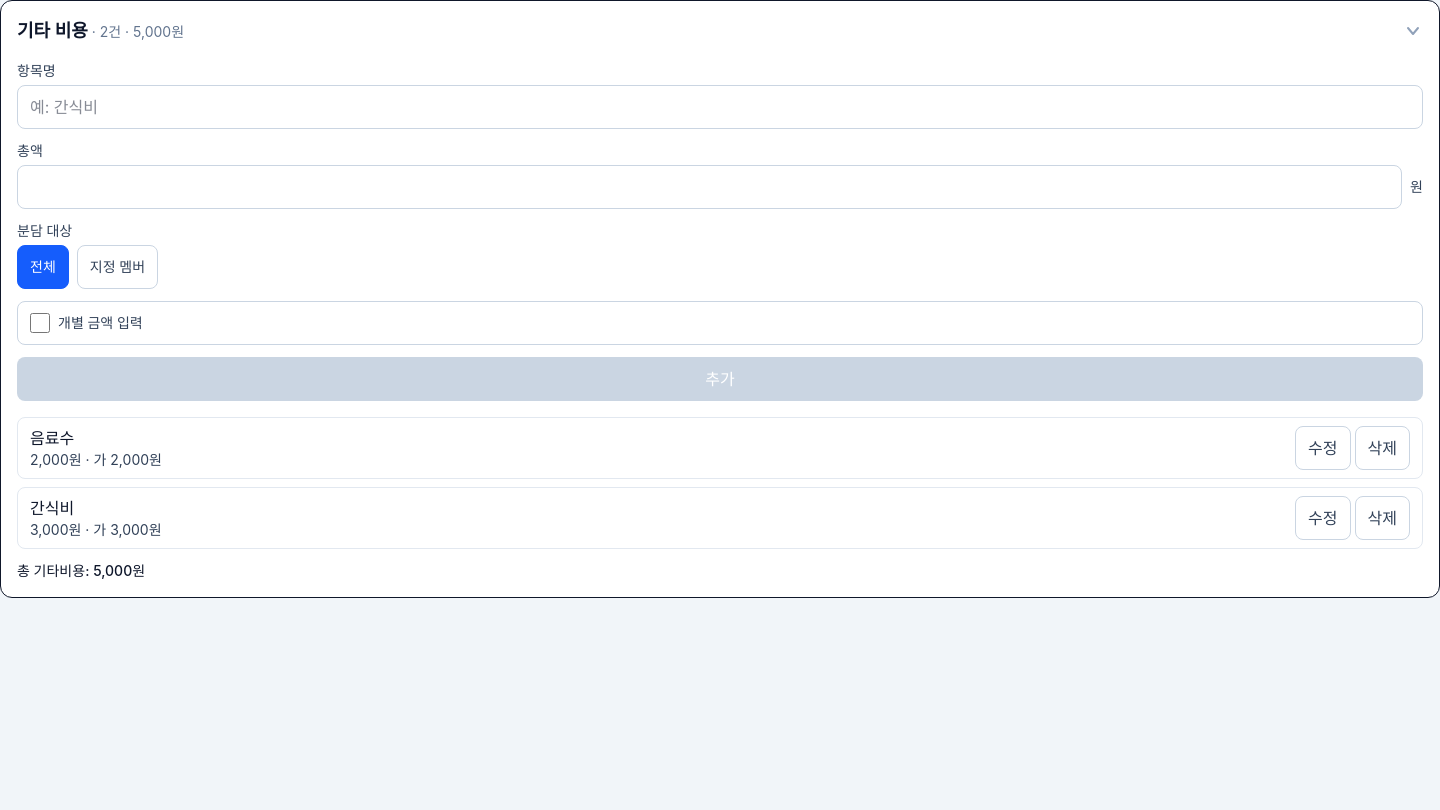
Scenario: ExtraCosts › 추가한 항목 수정 › 한 번에 한 항목만 편집칸이 열린다
What coordinates should you click on to do the following:
click the button with aria-label "음료수 금액 수정"
I would click on:
 (1323, 448)
Its box is [1295, 426, 1351, 470].
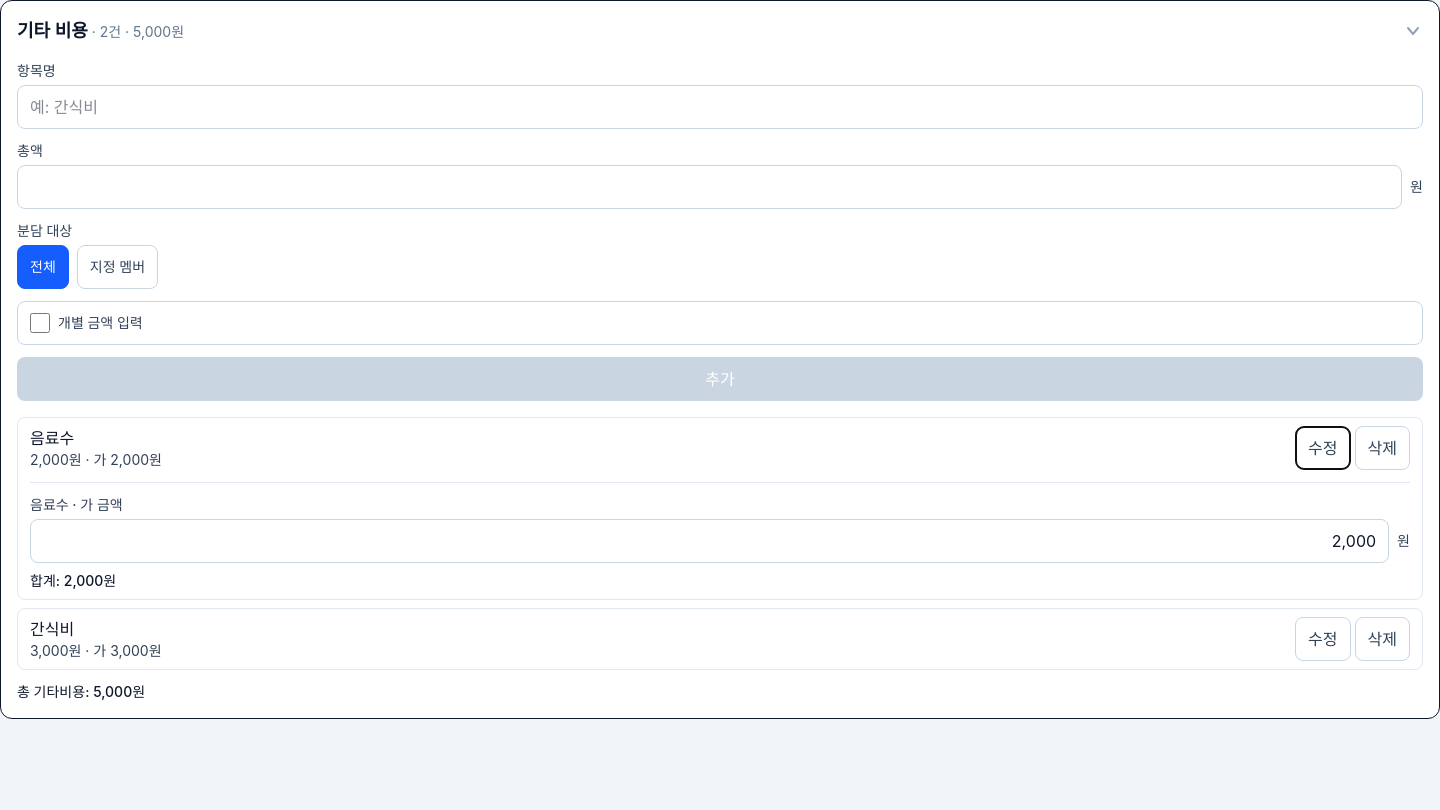
What coordinates should you click on to do the following:
click the button with aria-label "간식비 금액 수정"
I would click on:
 (1323, 639)
Its box is [1295, 617, 1351, 661].
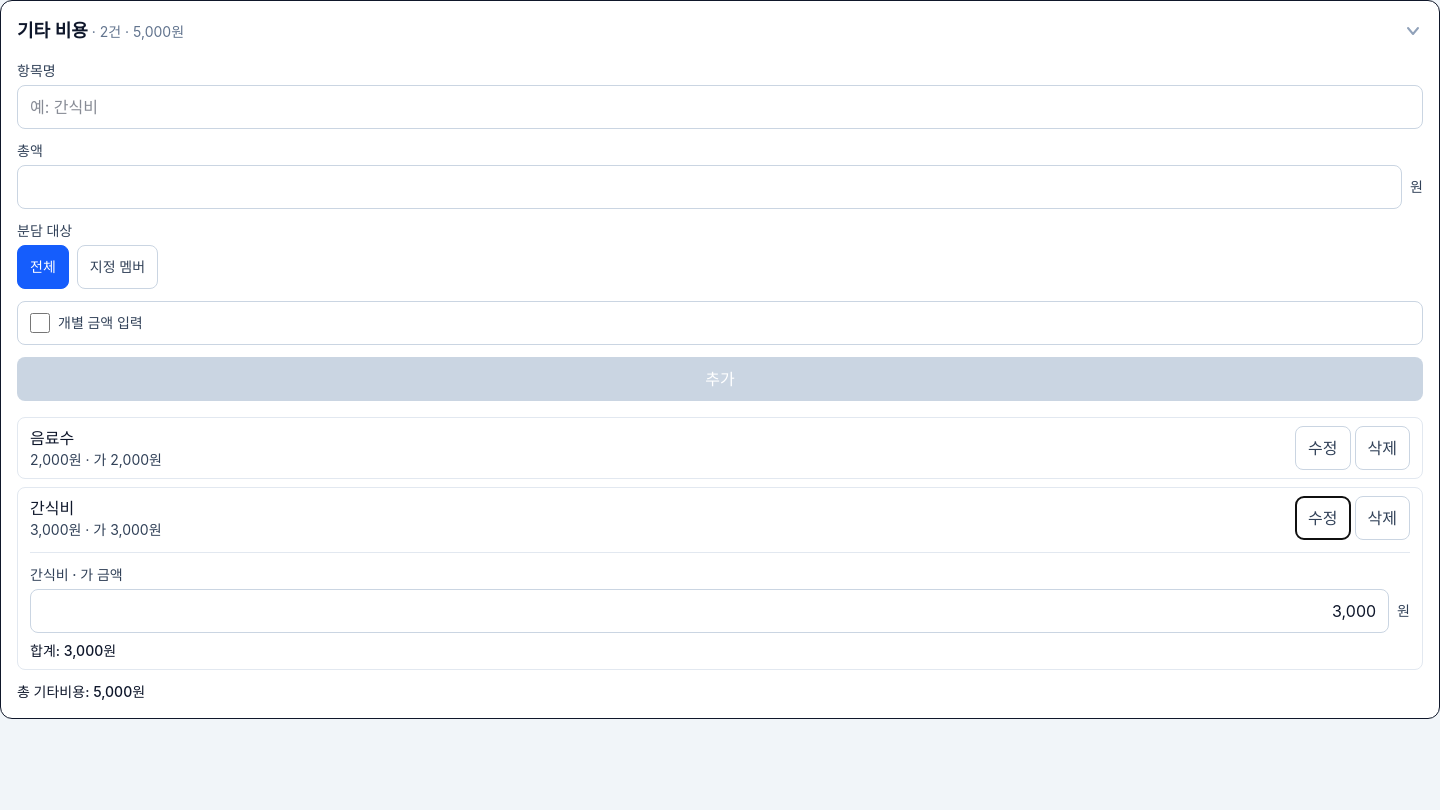
Expected: the label labelled "음료수 · 가 금액" is gone
Expected: the field labelled "간식비 · 가 금액" is shown, [30, 589, 1389, 633]
